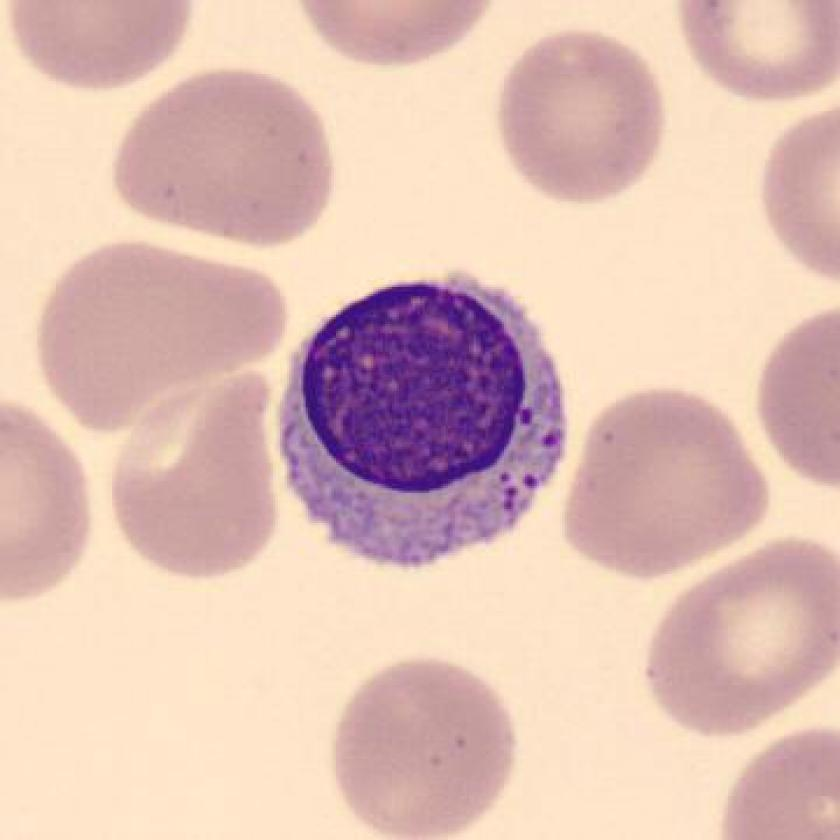lymphocyte: (256, 262, 585, 589)
